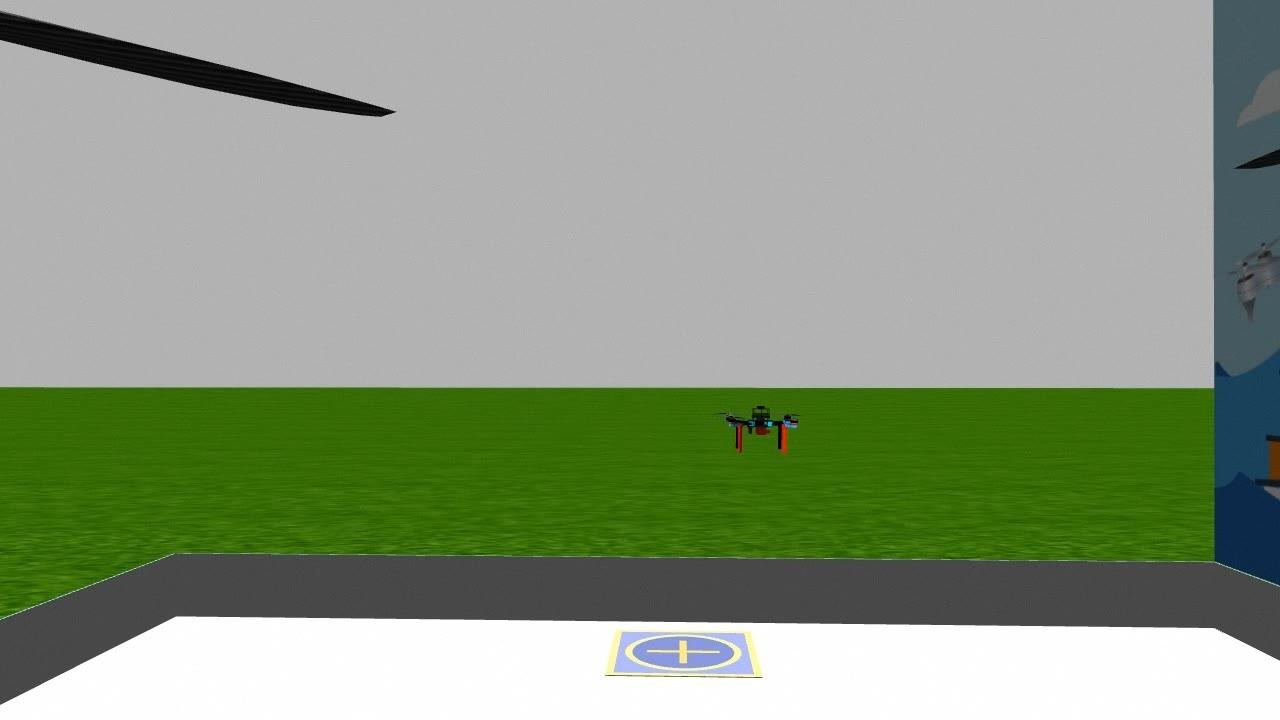UAV: (714, 398, 804, 458)
